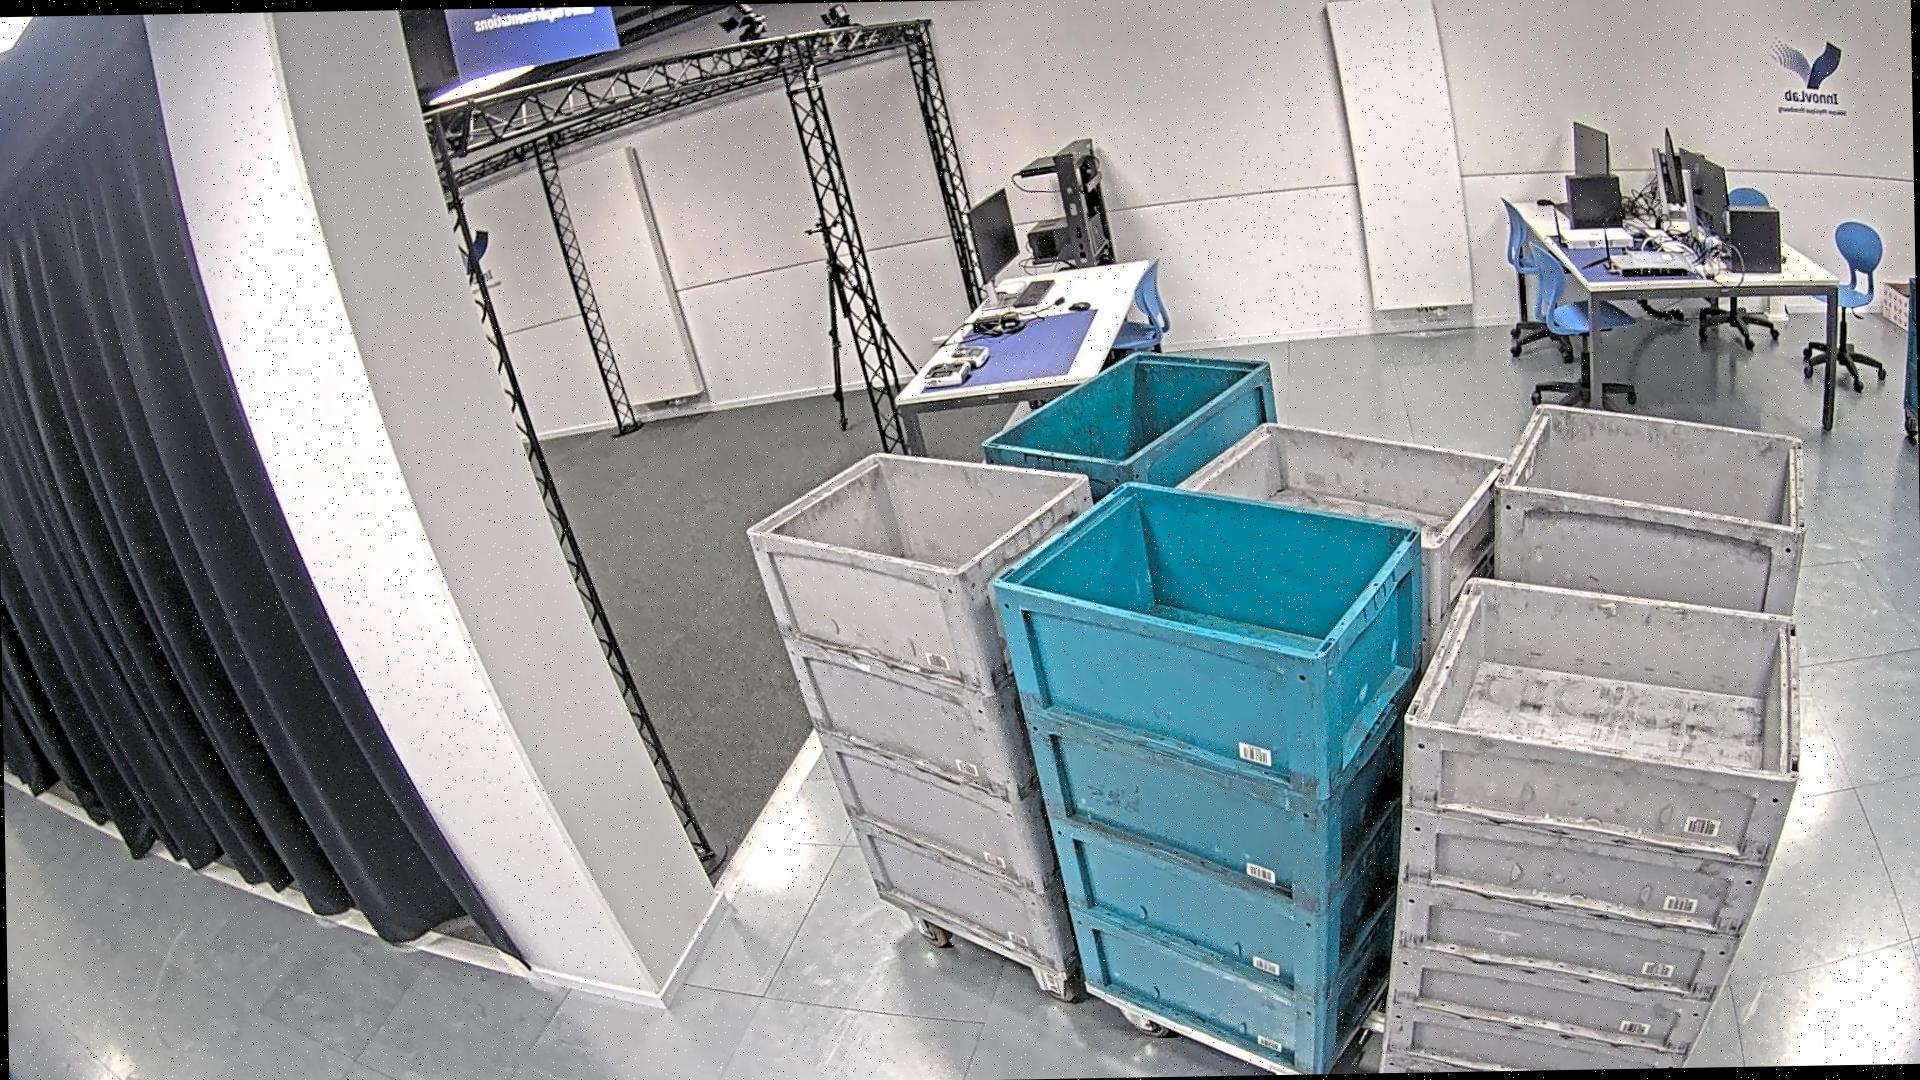Box3G: (1365, 567, 1813, 1073), (1151, 409, 1530, 997)
Box4G: (741, 444, 1135, 986), (1465, 396, 1820, 981)
BoxB4: (985, 465, 1432, 1080), (978, 349, 1323, 901)
